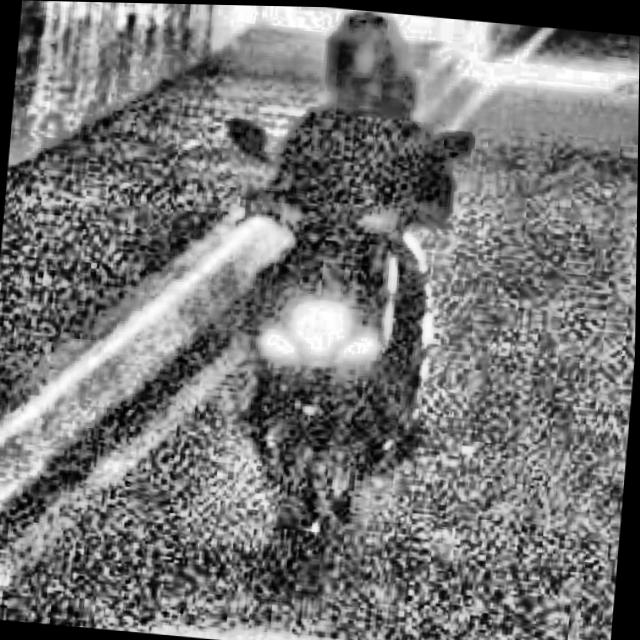motorcycle: (190, 98, 492, 558)
